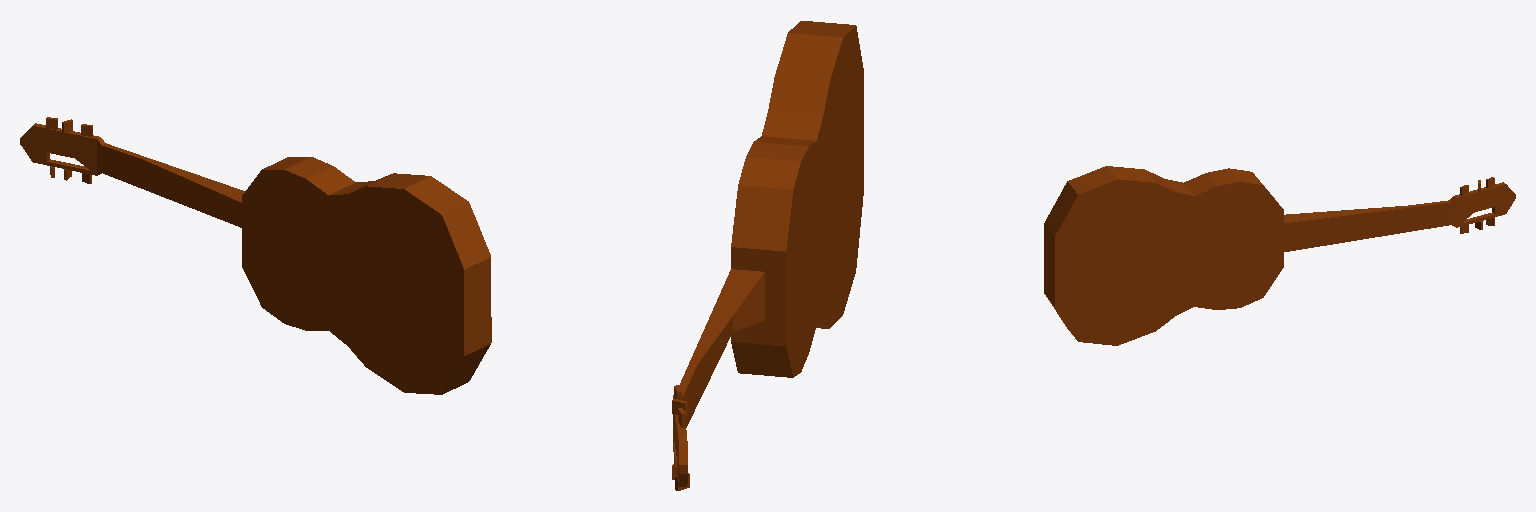
robot.urdf — guitar.urdf:
<?xml version="1.0" ?>
<robot name="guitar.urdf">
  <link name="baseLink">
    <inertial>
      <origin rpy="0 0 0" xyz="0 0 0"/>
       <mass value="0.0"/>
       <inertia ixx="0" ixy="0" ixz="0" iyy="0" iyz="0" izz="0"/>
    </inertial>
    <visual>
      <origin rpy="0 1.57 0" xyz="4 4 0.2"/>
      <geometry>
        <mesh filename="guitar.obj" scale="0.001 0.001 0.001"/>
      </geometry>
      <material name="wood">
        <color rgba="0.55 0.27 0.07 1"/>
      </material>
    </visual>
    <collision>
      <origin rpy="0 0 0" xyz="0 0 0"/>
      <geometry>
        <mesh filename="guitar.obj" scale="0.001 0.001 0.001"/>
        <!-- You could also specify the collision (for the guitar) with a "box" tag: -->
        <!-- <box size=".06 .06 .06"/> -->
      </geometry>
    </collision>
  </link>
</robot>

--- Facts derived from the render (not from the file) ---
Views: 3 orthographic renders of the robot side by side, from view 1: azimuth 30°, elevation 25°; view 2: azimuth 150°, elevation 25°; view 3: azimuth 270°, elevation 25°.
Model guitar.urdf with 1 links and 0 joints (none), rooted at baseLink, posed all joints at 0.
Visible links, largest first — view 1: baseLink; view 2: baseLink; view 3: baseLink.
Boxes of the visible links, box(x1,y1,x2,y2) form: baseLink: box(20, 117, 491, 394); baseLink: box(672, 21, 863, 490); baseLink: box(1044, 166, 1515, 345).
Size in the robot's own frame: 0.6204 by 1.62 by 0.6308 metres.
1 mesh visuals loaded from 1 distinct referenced files (1 OBJ).
